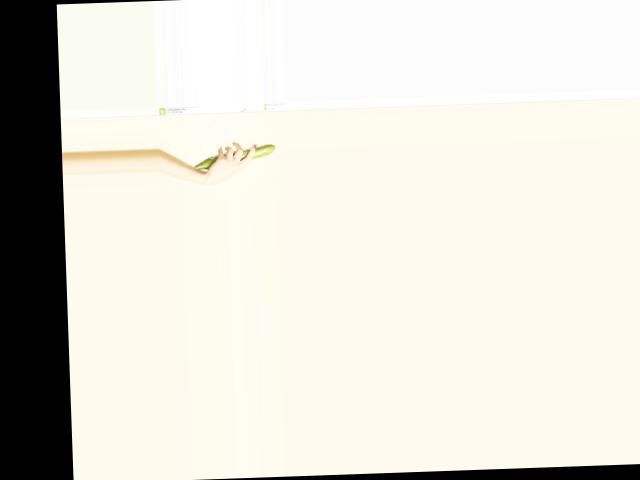cucumber: (193, 143, 275, 169)
